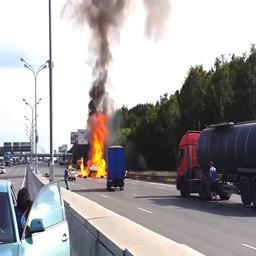fire: (80, 112, 108, 178)
